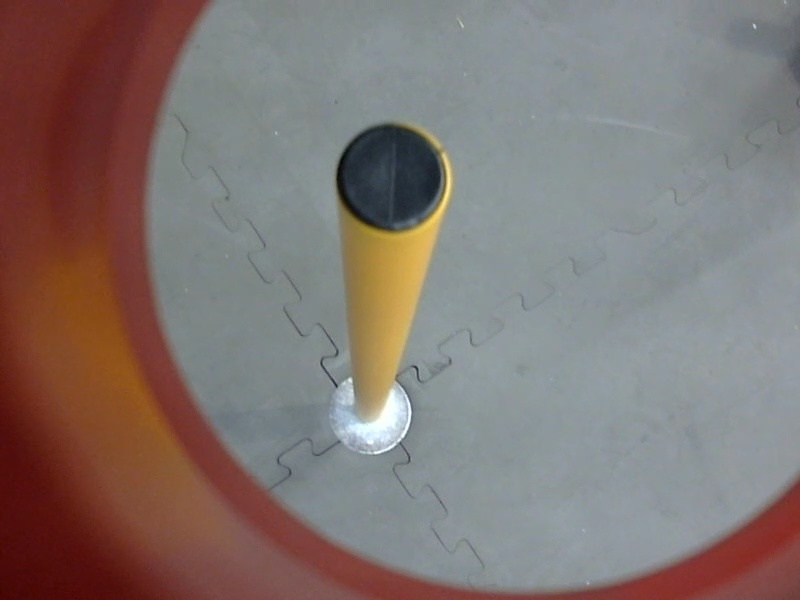tip: (328, 112, 457, 239)
